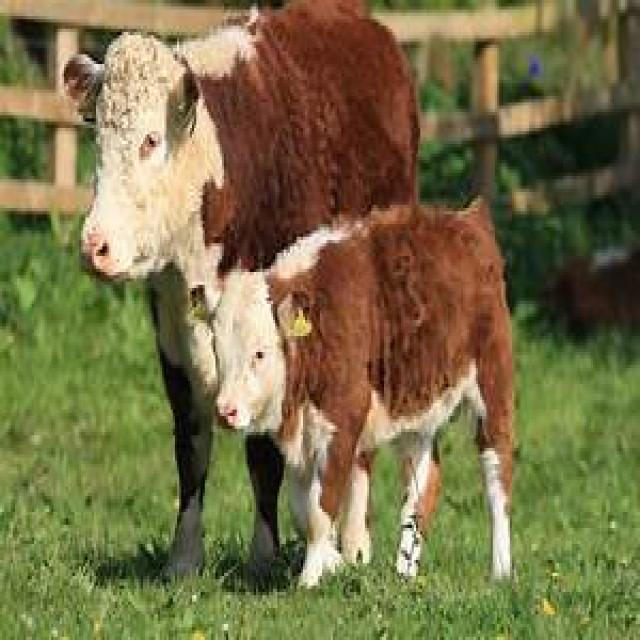cow: (62, 0, 418, 576), (207, 198, 514, 592)
